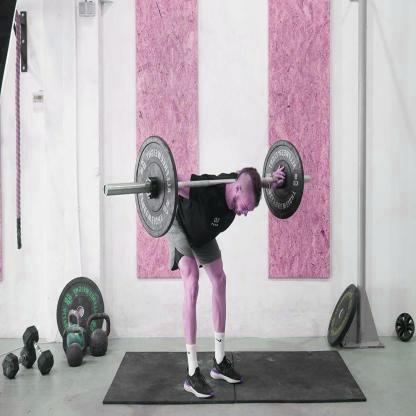Barbell: (100, 177, 107, 206)
